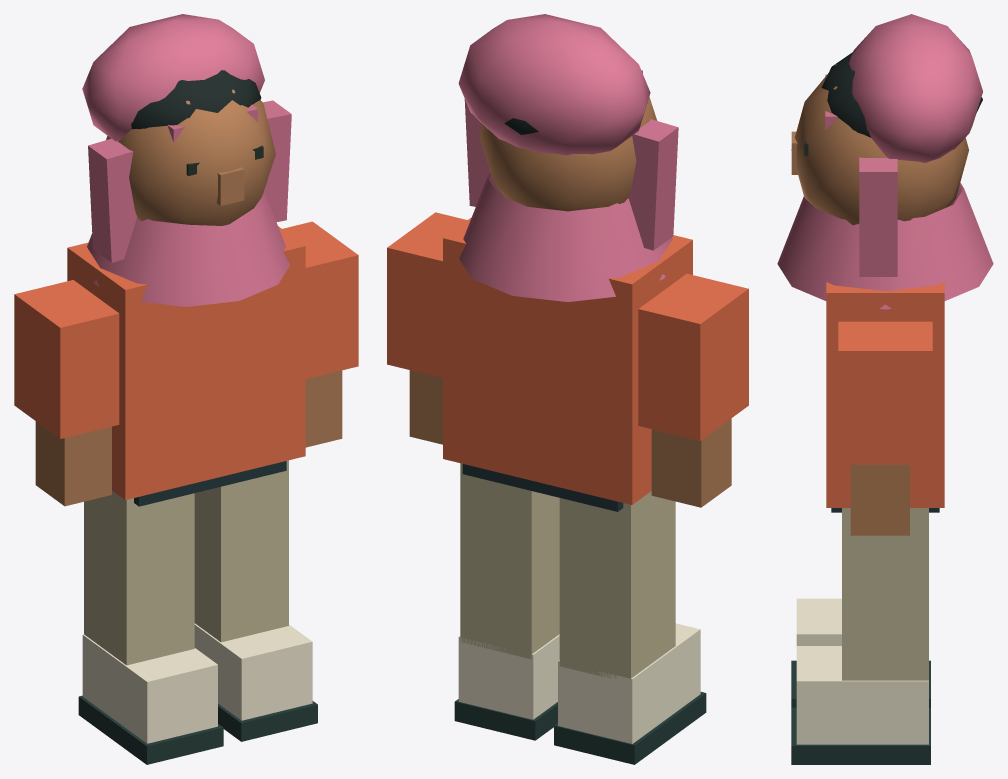
The model's file is male-tudung-ruffle.glb.
3 views of the same model, side by side, from view 1: azimuth 30°, elevation 25°; view 2: azimuth 150°, elevation 25°; view 3: azimuth 270°, elevation 25° (orthographic). The views are drawn at different scales.
Visible parts, largest first — view 1: male-tudung-ruffle, avatar-tudung, tudung-neck-wrap; view 2: male-tudung-ruffle, avatar-tudung, tudung-neck-wrap; view 3: male-tudung-ruffle, avatar-tudung, tudung-neck-wrap.
Part boxes in pixels (<box>): male-tudung-ruffle: <box>14,70,358,764</box>; avatar-tudung: <box>82,14,291,262</box>; tudung-neck-wrap: <box>87,191,290,306</box>; male-tudung-ruffle: <box>387,97,748,764</box>; avatar-tudung: <box>458,14,678,250</box>; tudung-neck-wrap: <box>459,172,672,301</box>; male-tudung-ruffle: <box>791,51,982,764</box>; avatar-tudung: <box>825,14,982,276</box>; tudung-neck-wrap: <box>777,183,993,309</box>.
Bounding box in the file's own units: 1.01 × 2.2 × 0.62.
